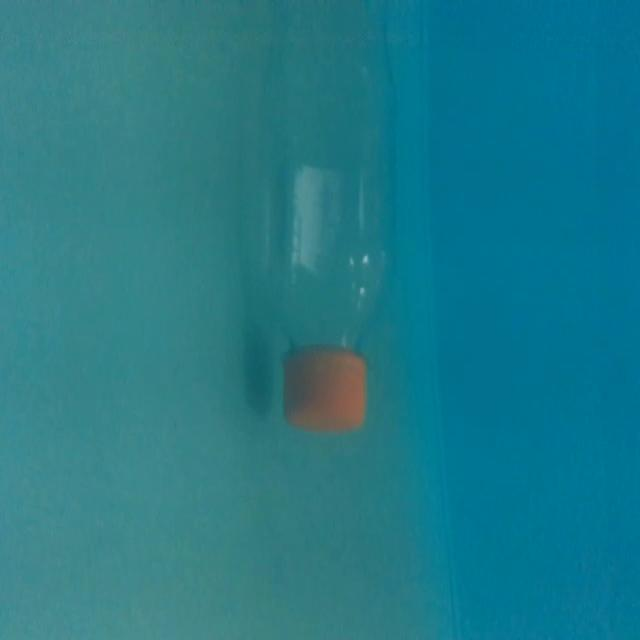plastic bottle: (253, 0, 403, 466)
